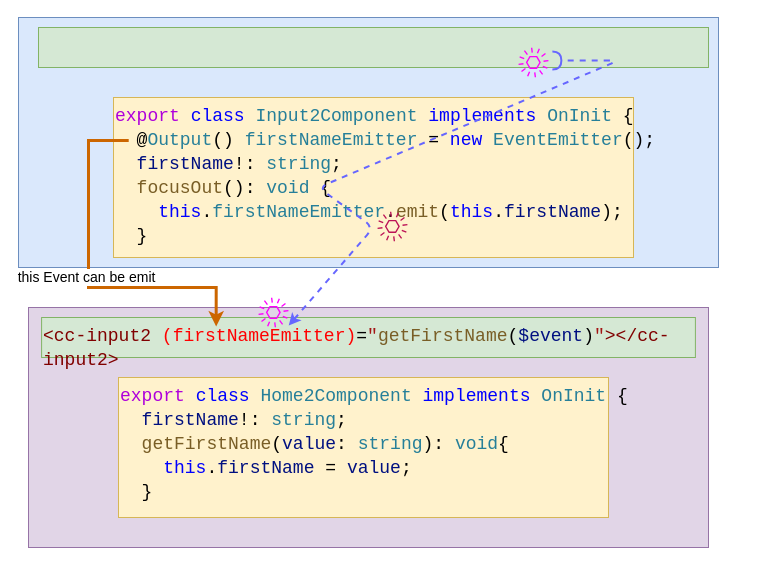
Some shapes in this 781 by 565 pixel diagram are drawn without their labels. Here are the shapes that lost their labels. From the top down, the box of each, then its label:
(38, 26, 708, 68): <input type = "text" [(ngModel)] = " firstName " (focusout) = " focusOut () " >
(28, 306, 708, 548): parent
